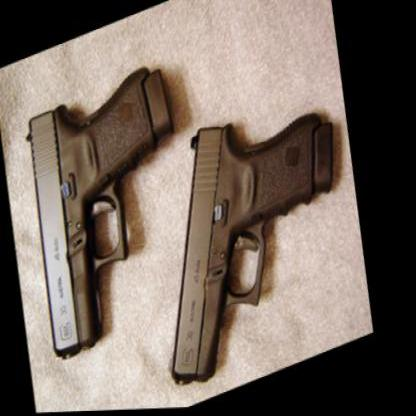pistol: (121, 77, 388, 396), (0, 53, 226, 369)
